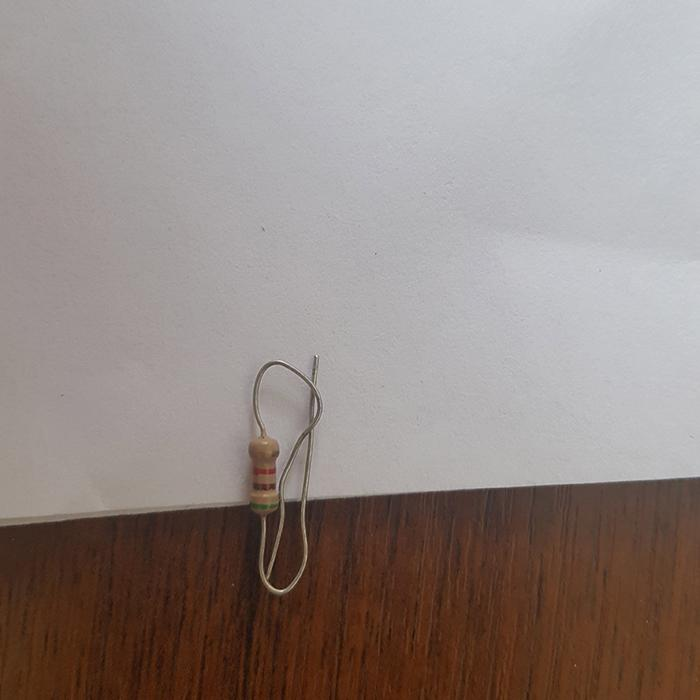resistor: (247, 435, 280, 516)
